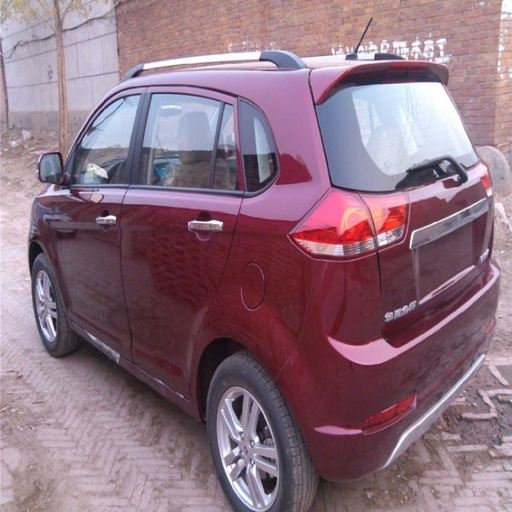back_bumper: (283, 263, 494, 477)
back_glass: (325, 89, 458, 186)
back_left_door: (122, 85, 244, 387)
trunk: (354, 166, 493, 340)
